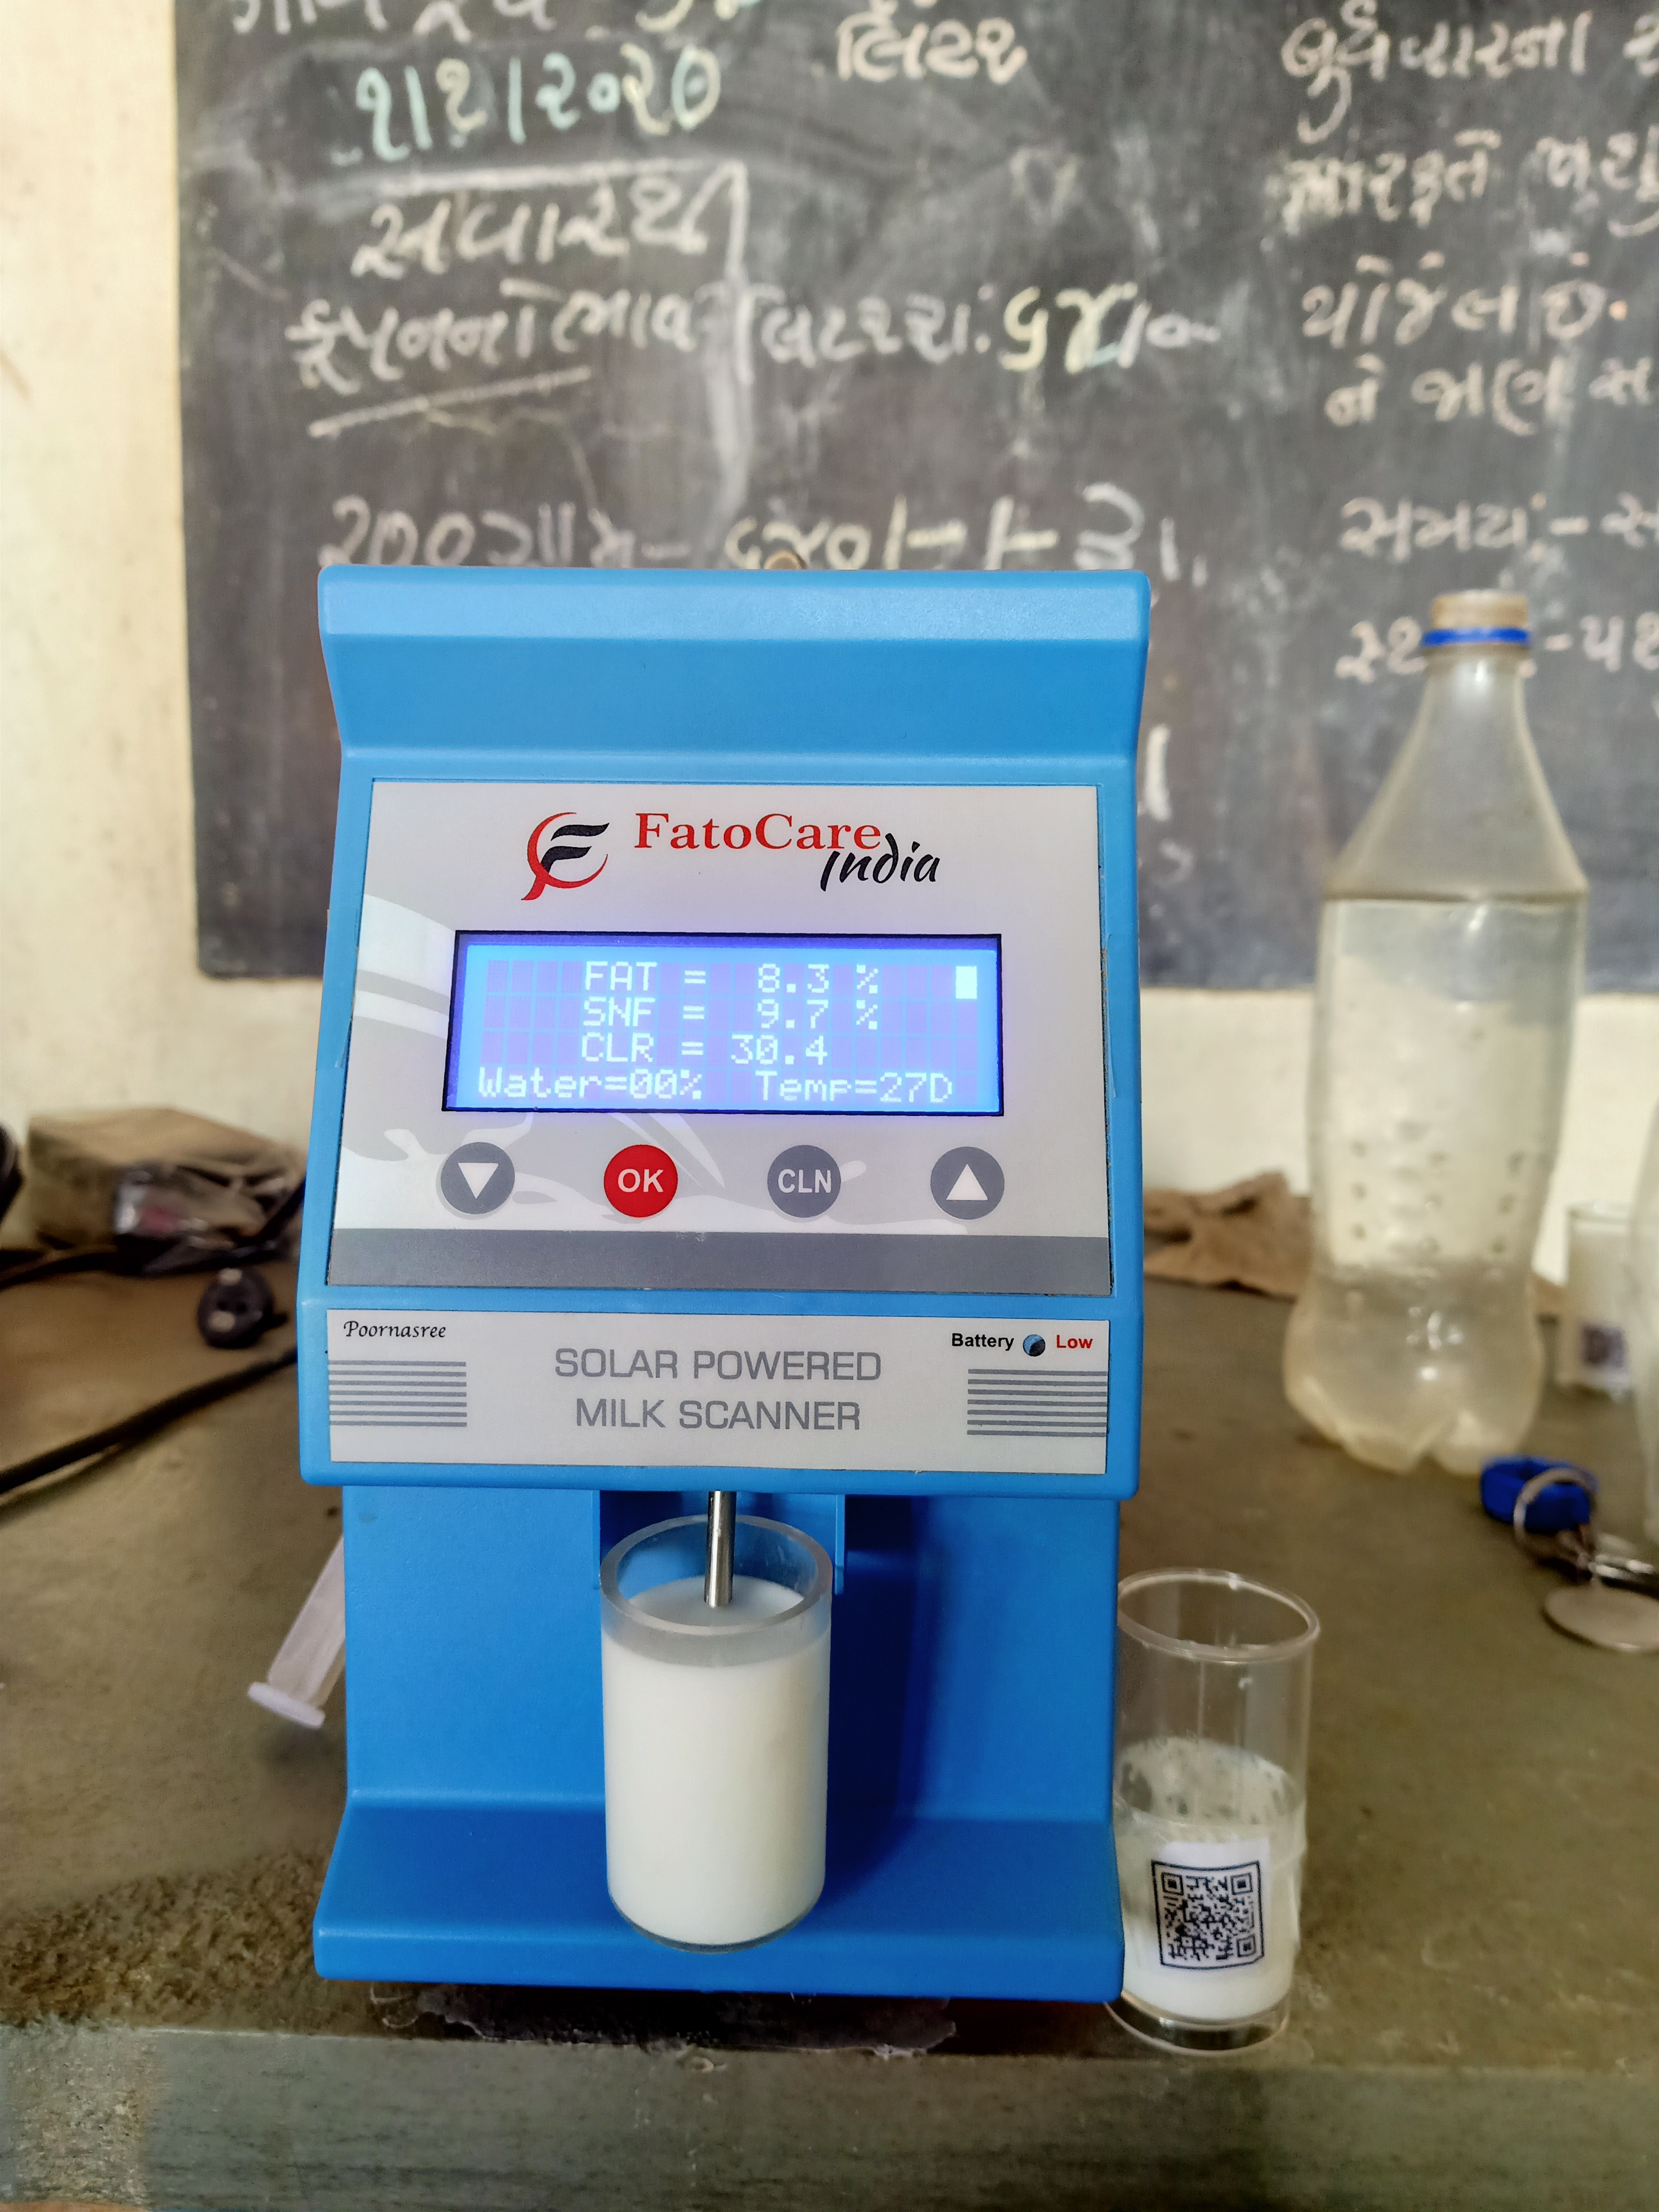lcd: (434, 909, 1021, 1144)
qr: (1138, 1844, 1281, 1987)
